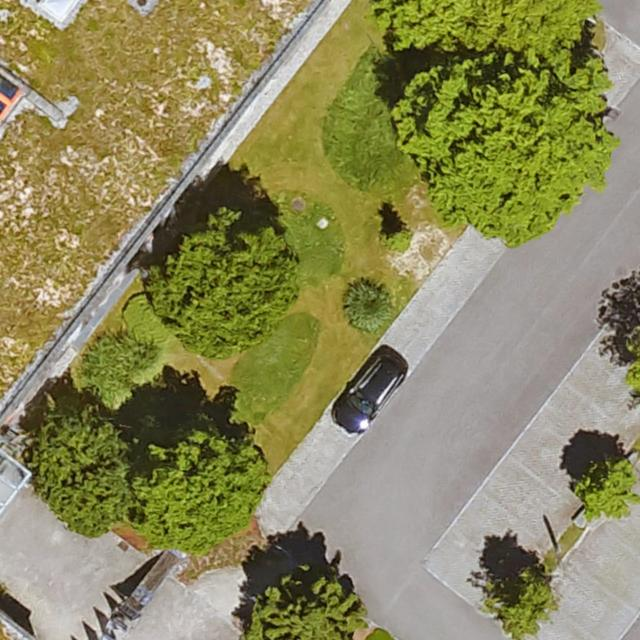tree: (398, 54, 618, 247), (147, 217, 297, 353), (137, 425, 268, 547), (34, 411, 140, 535), (379, 0, 605, 55), (245, 570, 362, 640), (483, 568, 560, 639), (574, 456, 639, 520)
